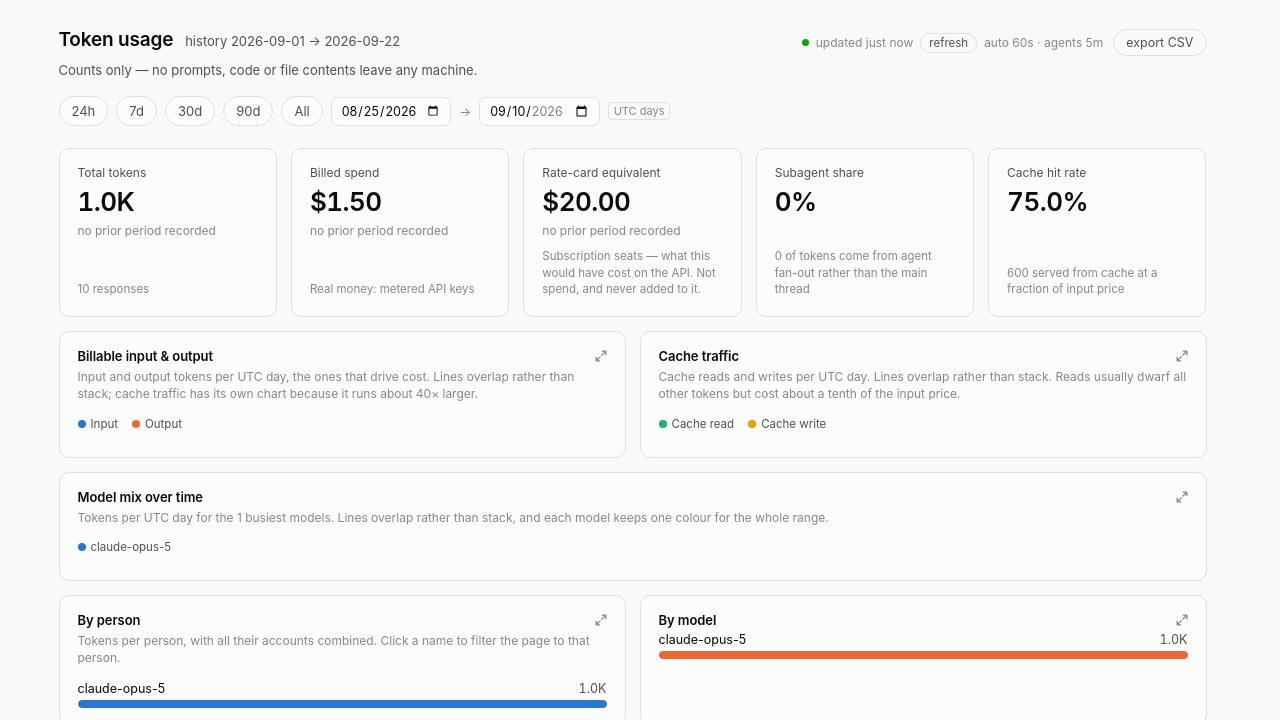
Test: the range sent to the server › puts a date it cannot take back to the range when the box is left
Expected: the text "Total tokens" is shown, [78, 165, 146, 180]
Type "0202-08-25" into the date field named "From date". click: point(391, 111)
box: [331, 96, 451, 126]
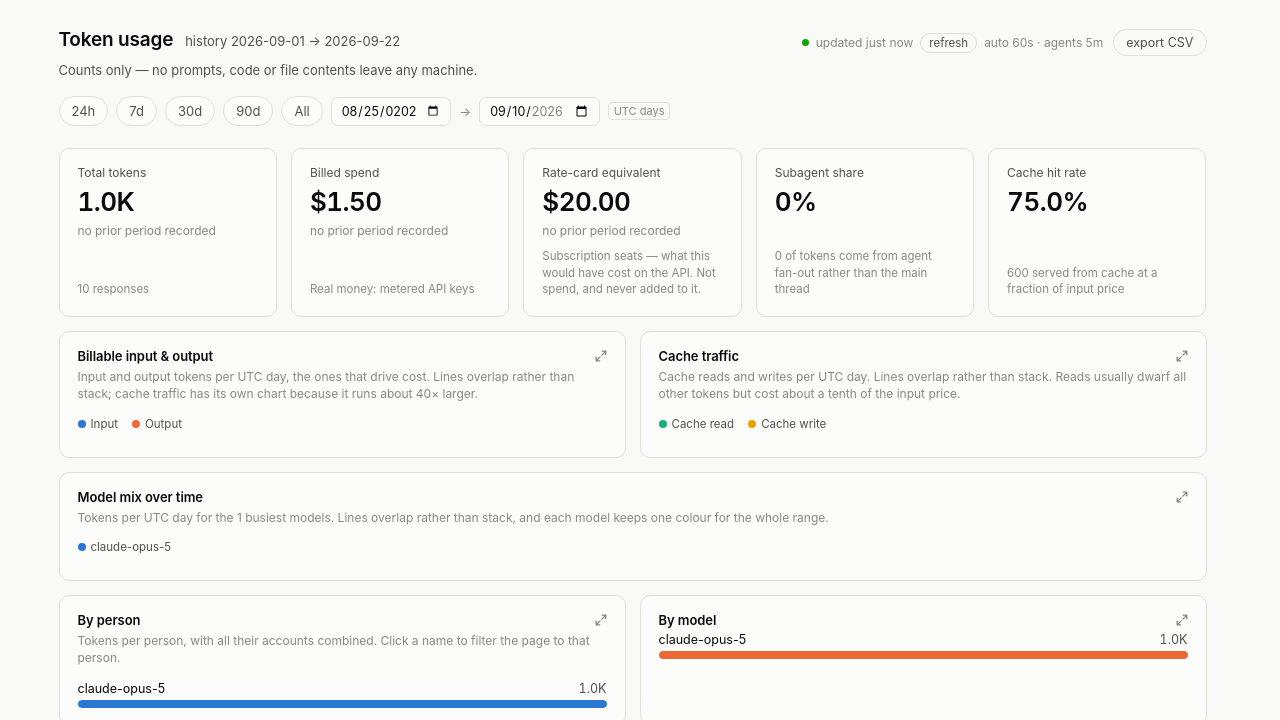
Leave the date field named "From date", box [331, 96, 451, 126]
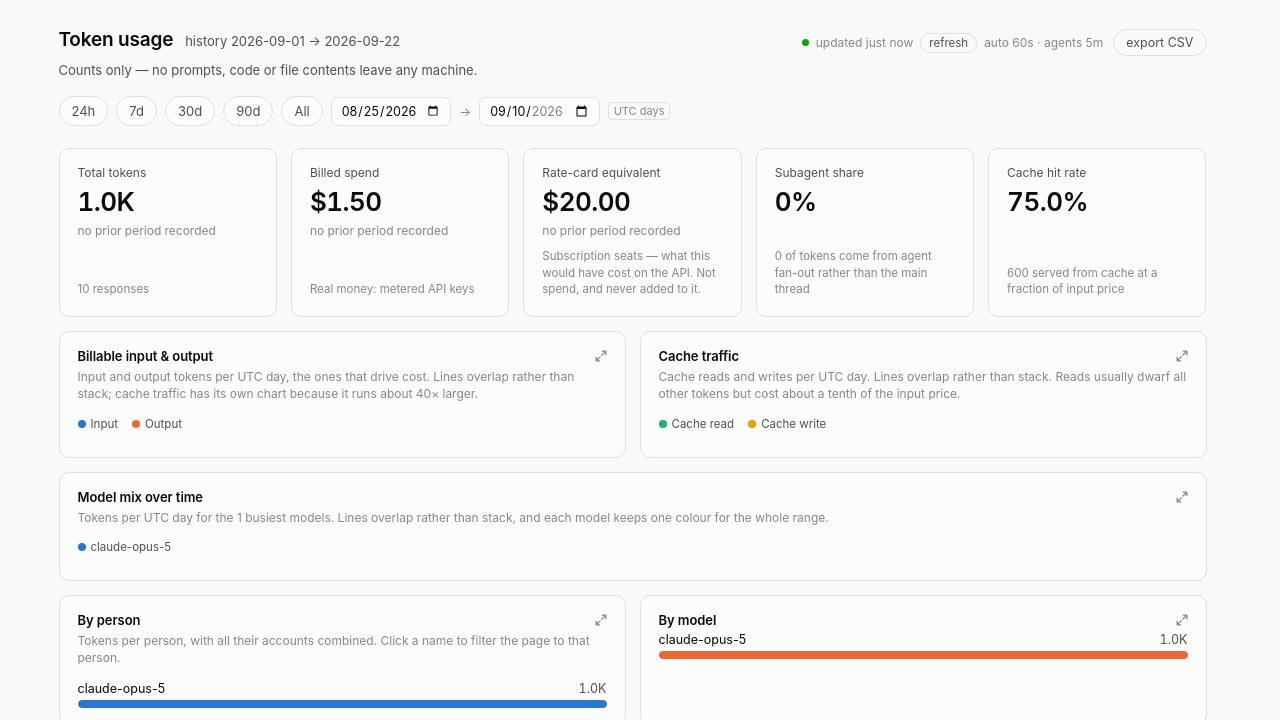
Expected: the date field named "From date" holds "2026-08-25", [331, 96, 451, 126]
